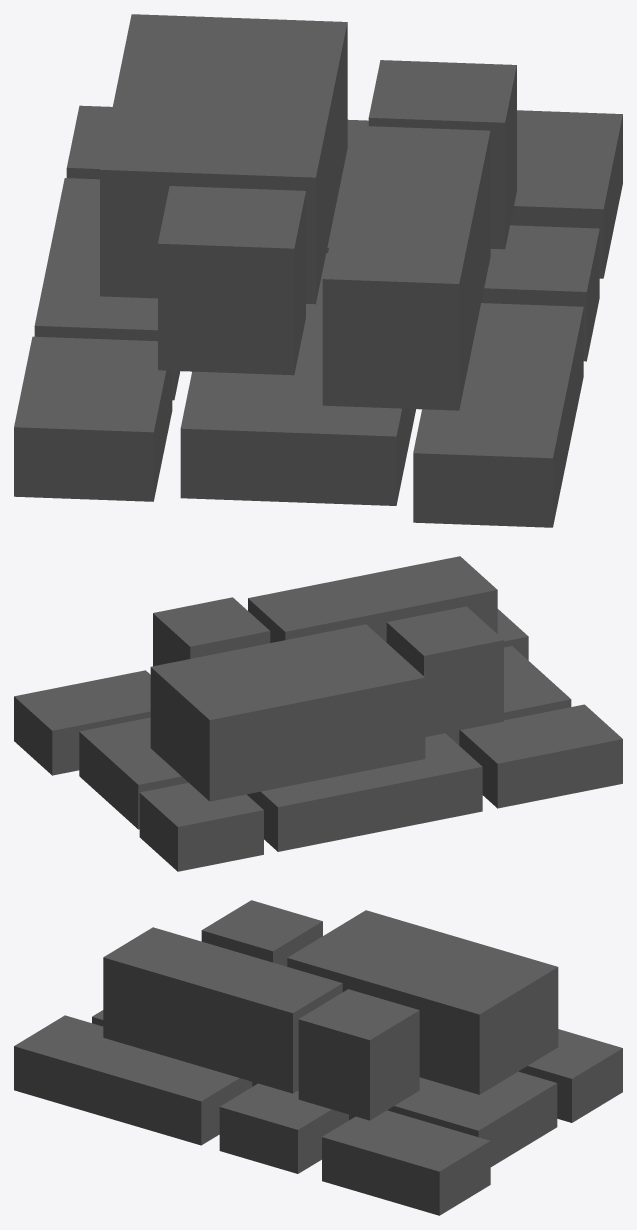
Rendered from Pile_level1.fbx.
3 views of the same model, one above another, from view 1: azimuth 30°, elevation 25°; view 2: azimuth 150°, elevation 25°; view 3: azimuth 270°, elevation 25° (orthographic). The views are drawn at different scales.
Parts seen in each view (by area): view 1: StonePile; view 2: StonePile; view 3: StonePile.
Part boxes in pixels (left/top/right/bottom): StonePile: left=14, top=14, right=622, bottom=527; StonePile: left=14, top=556, right=622, bottom=871; StonePile: left=14, top=900, right=622, bottom=1215.
Bounding box in the file's own units: 12.86 × 3.13 × 13.74.
